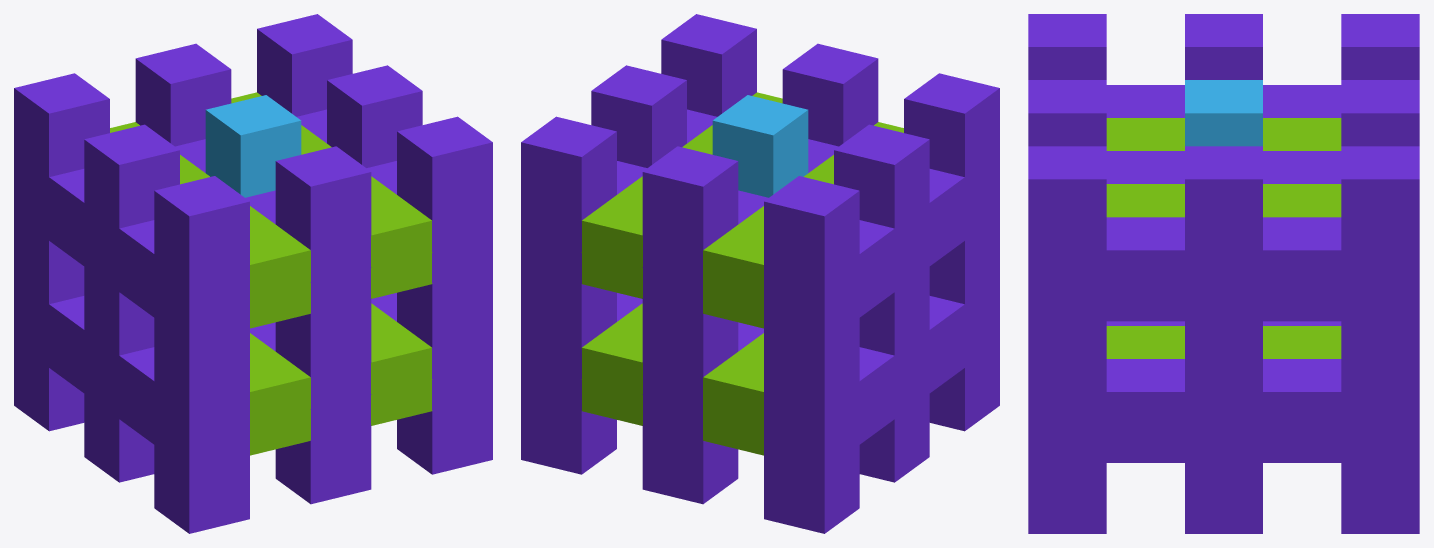
The model's file is Lid.fbx.
3 renders of one model, left to right at view 1: azimuth 30°, elevation 25°; view 2: azimuth 150°, elevation 25°; view 3: azimuth 270°, elevation 25°, orthographic. The views are drawn at different scales.
Parts seen in each view (by area): view 1: Lid; view 2: Lid; view 3: Lid.
Part boxes in pixels (left/top/right/bottom): Lid: left=14, top=14, right=492, bottom=533; Lid: left=521, top=14, right=999, bottom=533; Lid: left=1028, top=14, right=1419, bottom=533.
Size of the model in its own units: 10 by 10 by 10.
1 material, 1 textured.
